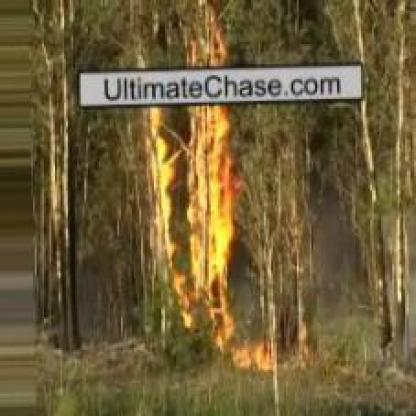fire: (138, 6, 285, 374)
